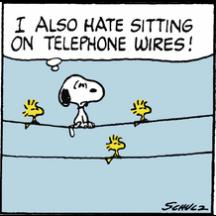snoopy: (59, 73, 106, 137)
